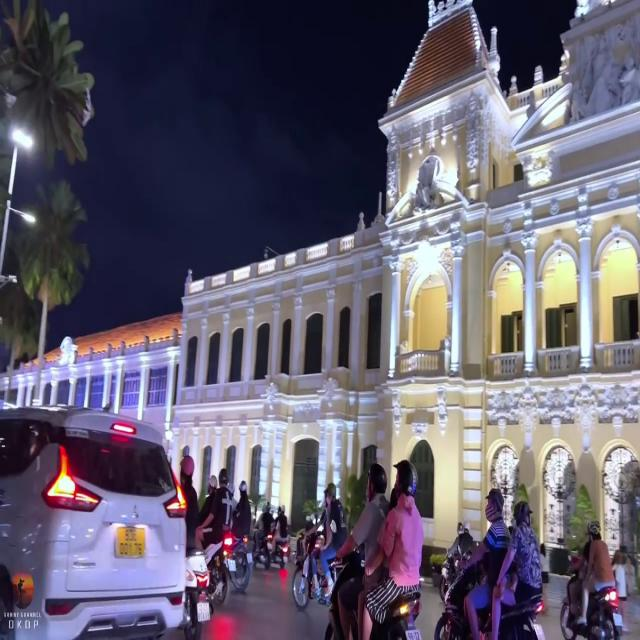bien_vang: (111, 518, 149, 563)
